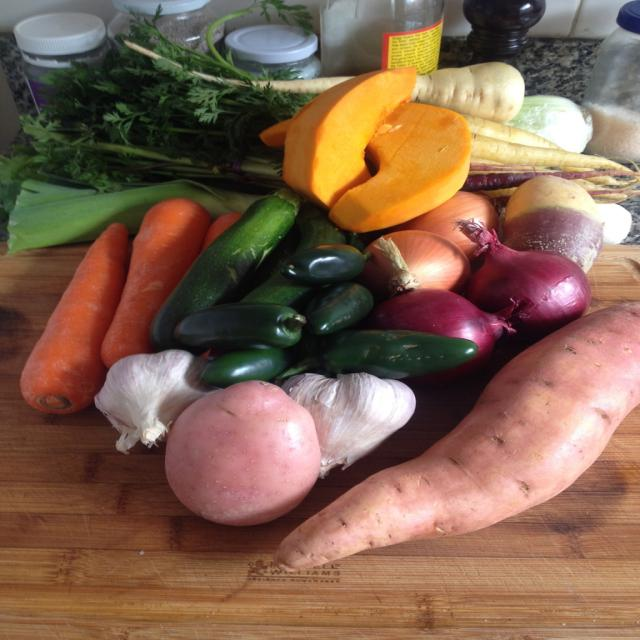carrot: (15, 220, 122, 418), (102, 194, 212, 373)
